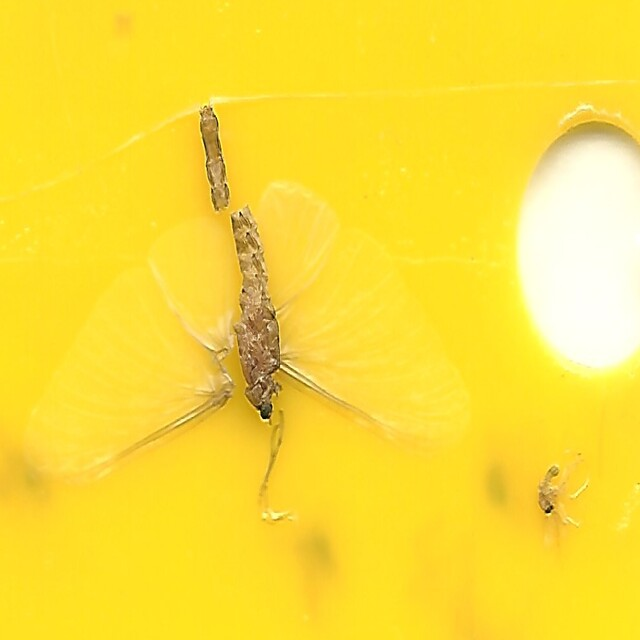Ephemeroptera: (65, 107, 448, 522)
Nematocera: (538, 466, 575, 533)
